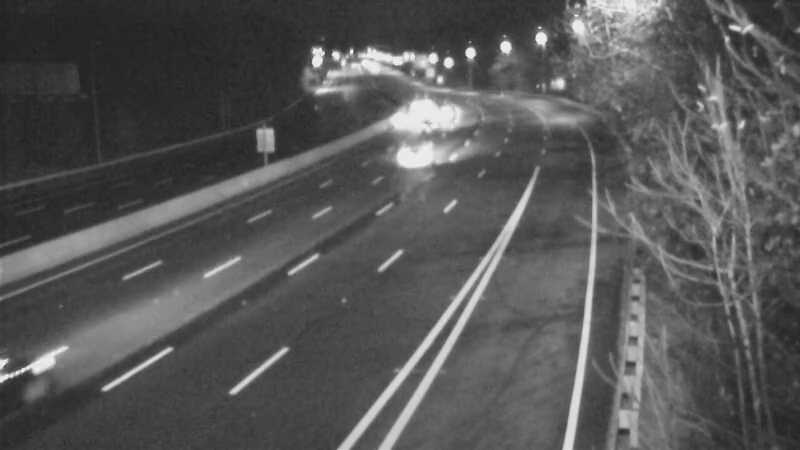vehicle: (1, 322, 95, 432), (378, 116, 458, 196), (392, 74, 442, 124), (422, 86, 472, 136), (374, 95, 424, 145), (404, 104, 454, 154)
